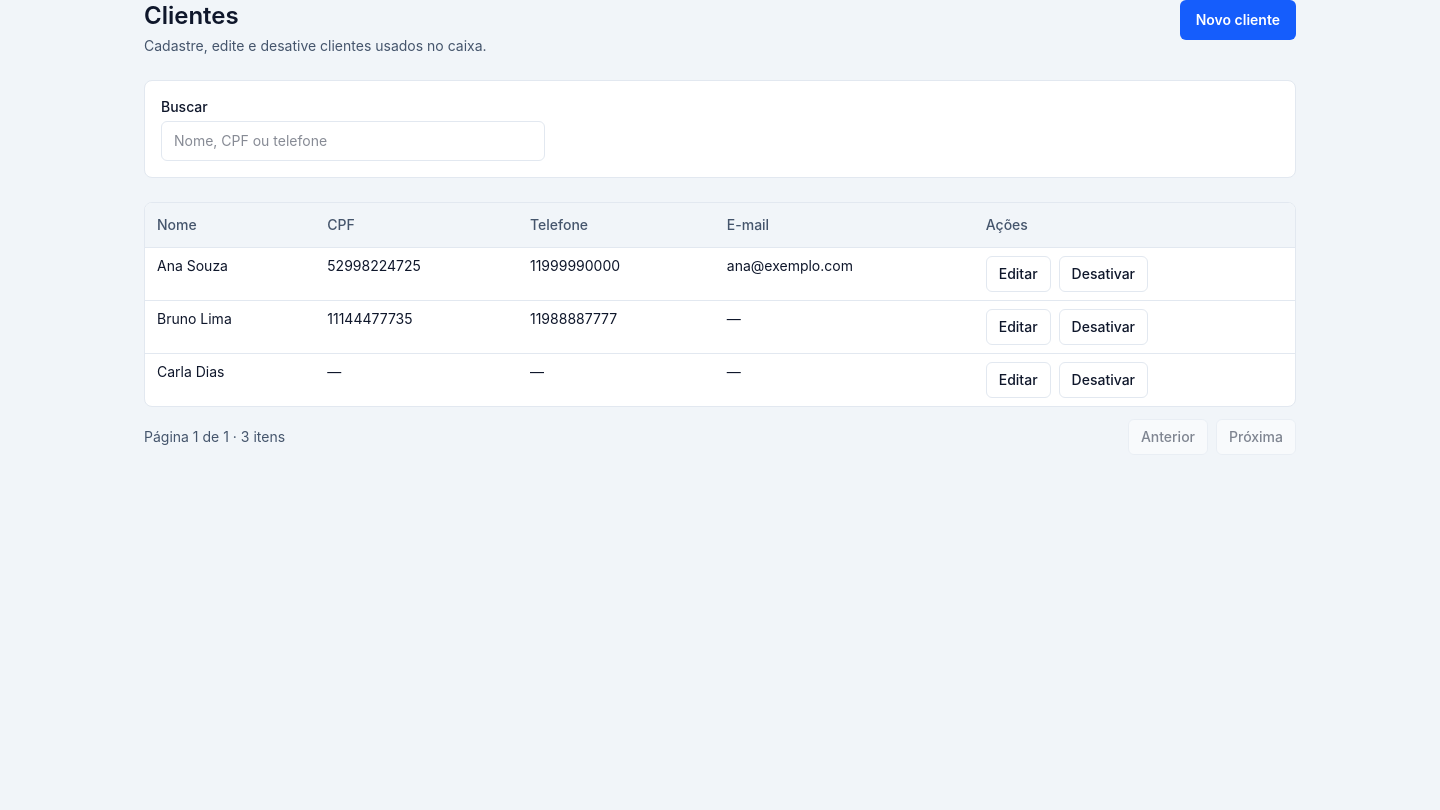
Test case: CustomersPage — edição › mostra a mensagem e relê o cliente quando o PUT leva 409 de concorrência
Expected: the cell "Ana Souza" is shown, [145,248,315,300]
Click the button with aria-label "Editar Ana Souza" at [1018, 274], box [986,256,1051,292]
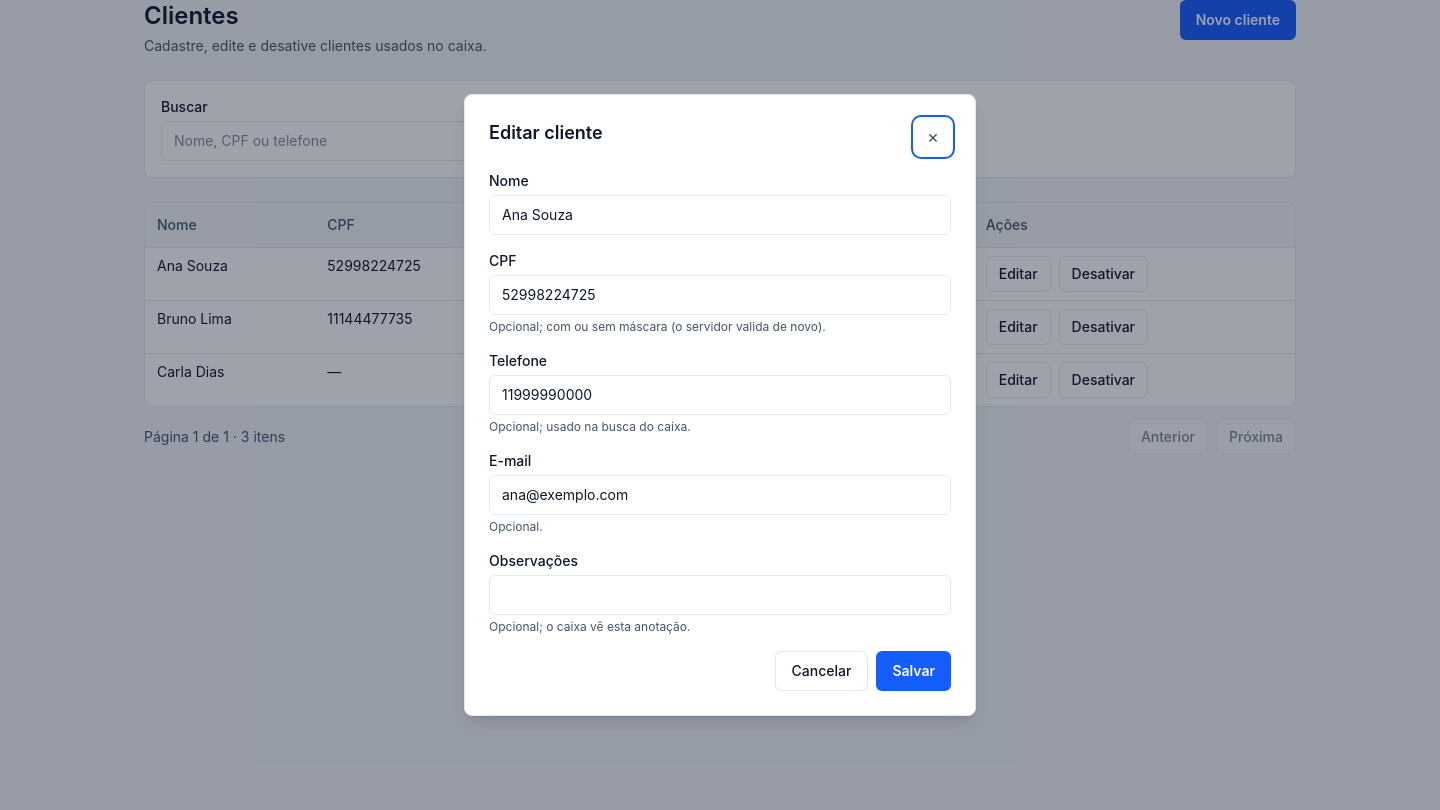
Now the field labelled "Nome" is shown
Replace the text in the field labelled "Nome" with "Ana Souza Lima" at [720, 215], box [489,195,951,235]
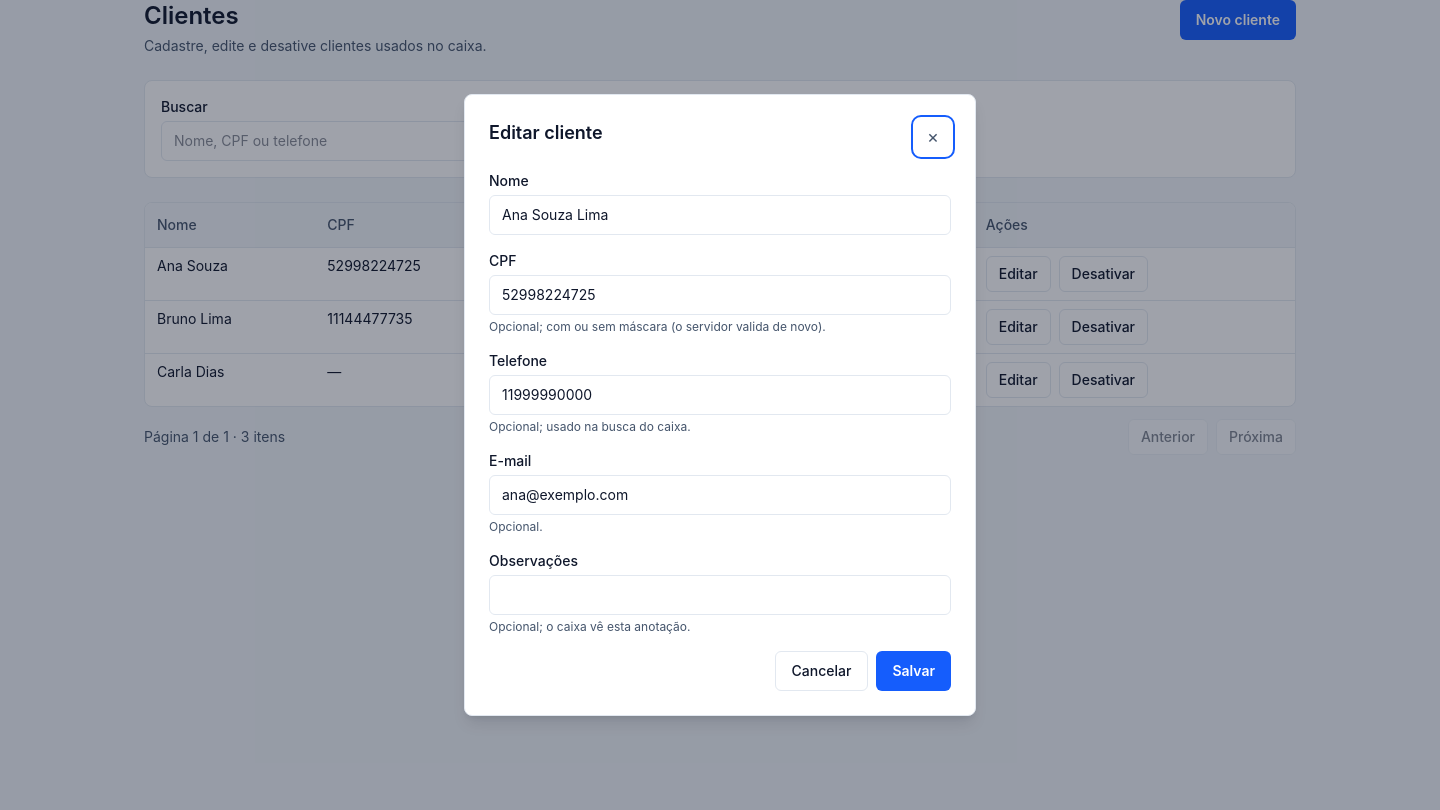
Click the button "Salvar" at [914, 671], box [876,651,951,691]
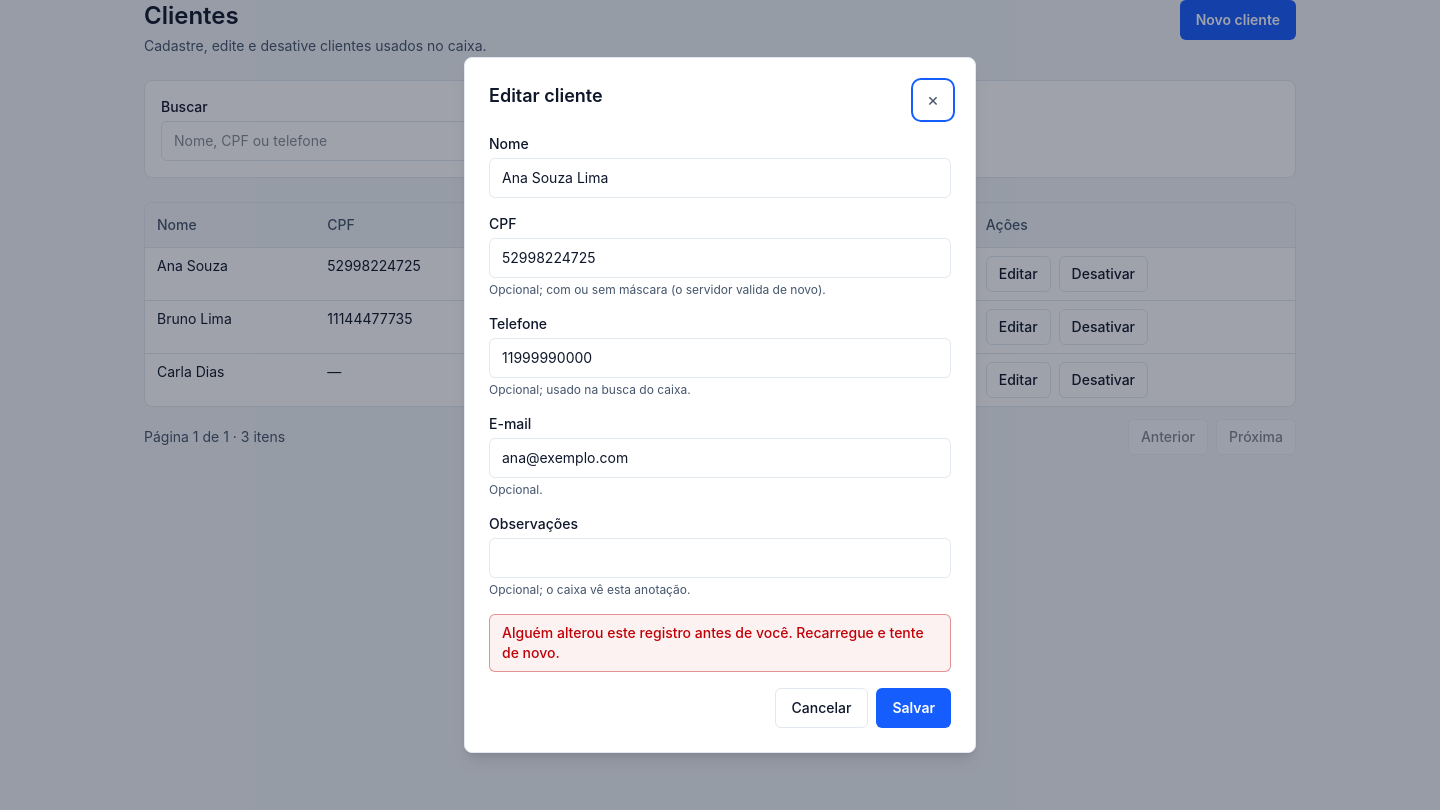
Now the dialog is shown, box [464,57,976,753]
Now the message reads "Alguém alterou este registro antes de você. Recarregue e tente de novo.", box [502,624,924,661]
